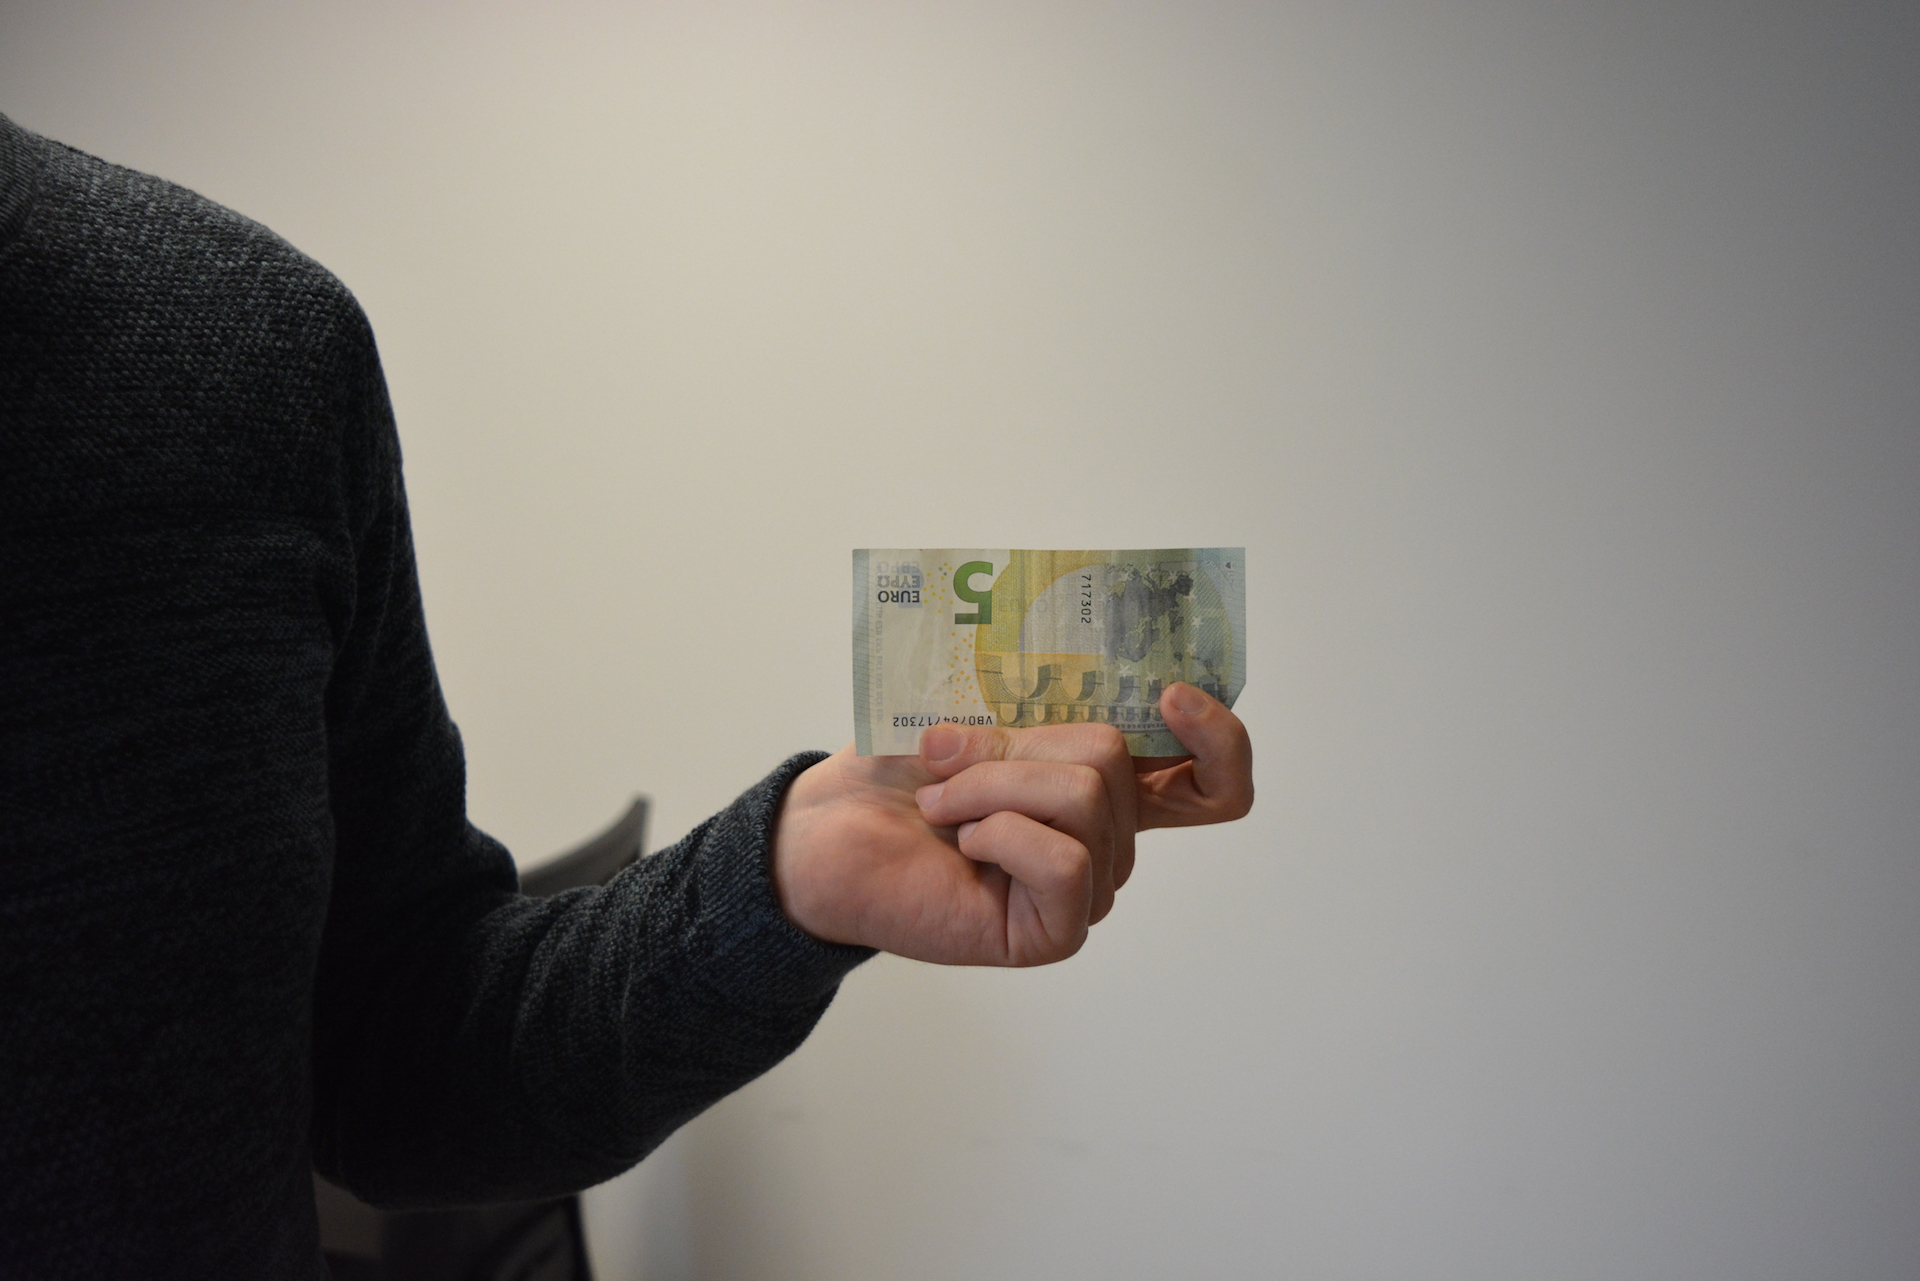billete: (851, 545, 1248, 758)
